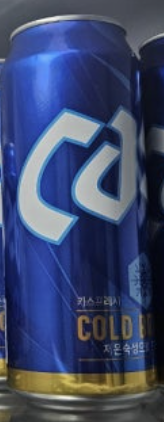beer-can: (2, 11, 157, 411), (139, 30, 164, 388)
